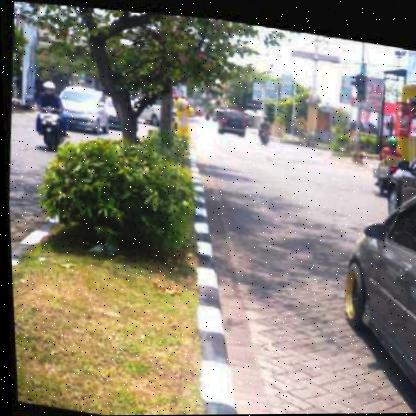Traffic Light -Yellow-: (353, 67, 367, 96)
